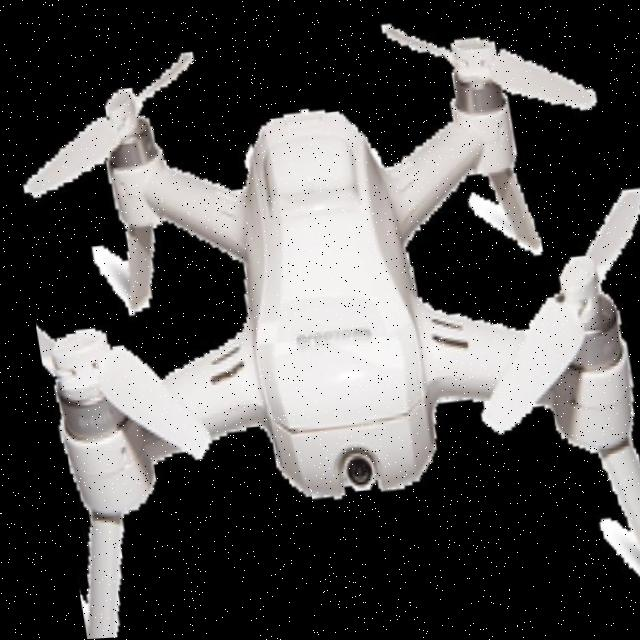drones: (1, 0, 640, 640)
